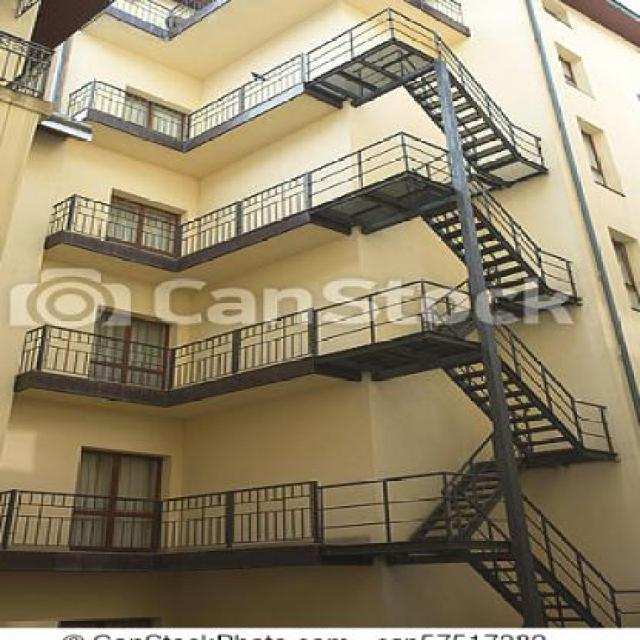stair: (398, 330, 612, 553), (332, 32, 614, 171), (368, 170, 612, 316)
